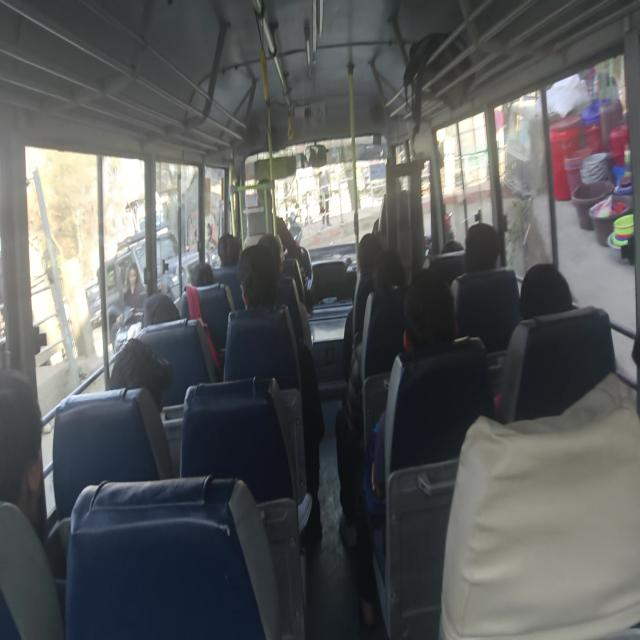person: (356, 269, 495, 629), (223, 243, 324, 539), (335, 248, 408, 548), (0, 367, 66, 638), (450, 221, 519, 350), (342, 232, 382, 379), (450, 221, 500, 301), (519, 262, 574, 320), (179, 260, 214, 318), (115, 262, 145, 324), (142, 292, 180, 327), (217, 232, 241, 267), (189, 261, 214, 287)
